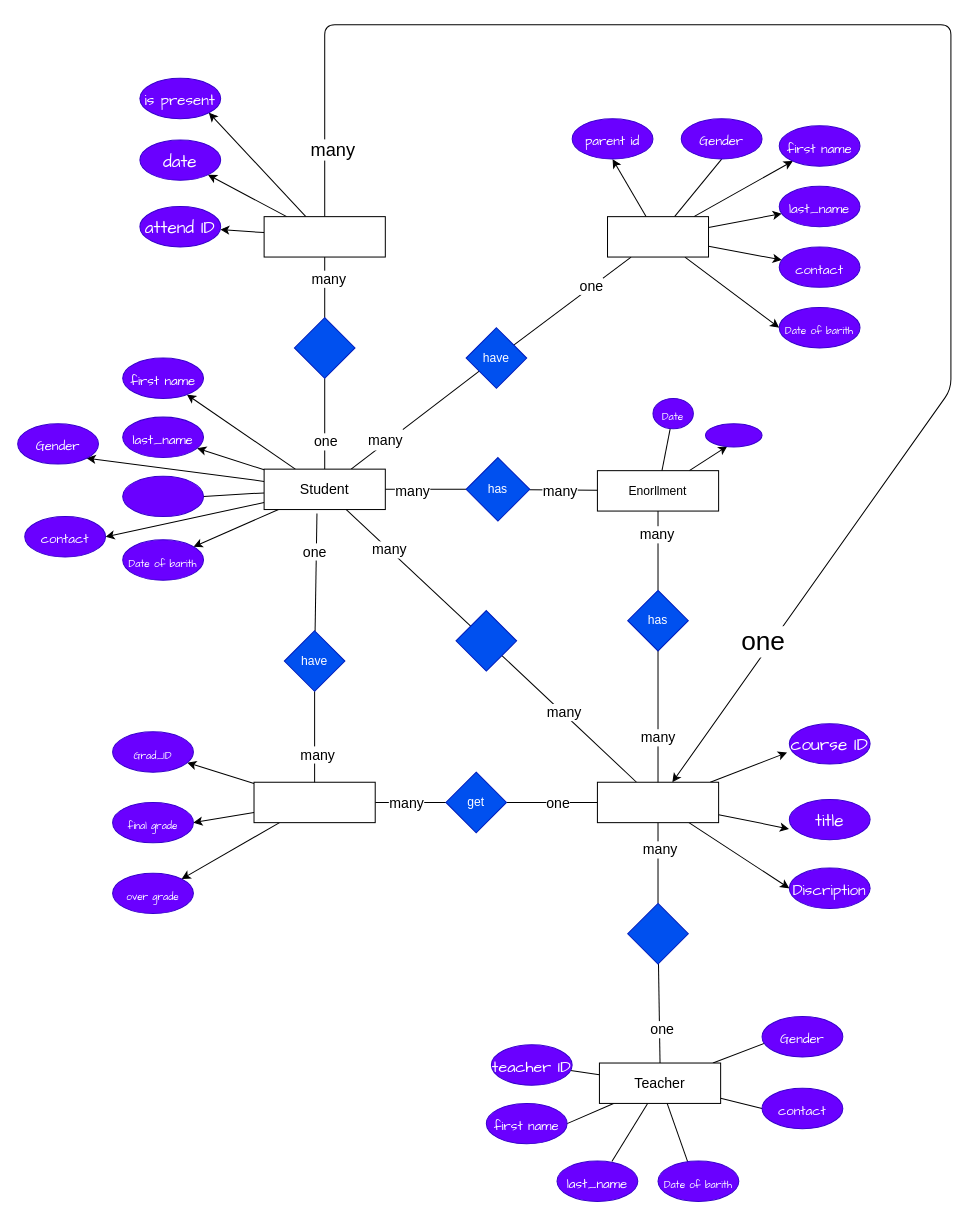
The diagram is 977 pixels wide and 1219 high, and some of its shapes have lost their labels. Here are the shapes that lost their labels. From the top down, the box of each, then its label:
(263, 216, 385, 257): attendance
(607, 216, 709, 257): Parent
(293, 317, 355, 378): attend
(704, 423, 762, 447): ID
(122, 475, 204, 517): student id
(455, 610, 517, 671): Enroll
(253, 781, 375, 823): Grade
(596, 781, 719, 823): Course
(627, 902, 688, 964): teach
